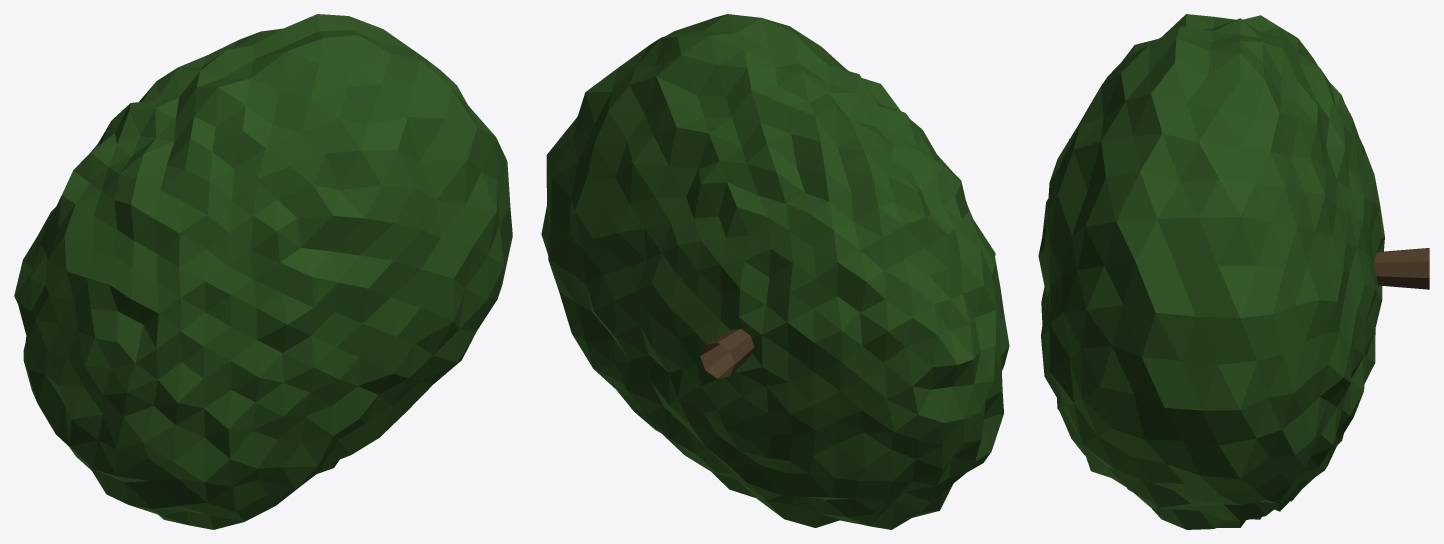
The model's file is citrus_f.obj.
3 renders of one model, left to right at view 1: azimuth 30°, elevation 25°; view 2: azimuth 150°, elevation 25°; view 3: azimuth 270°, elevation 25°, orthographic. The views are drawn at different scales.
Visible parts, largest first — view 1: canopy; view 2: canopy, trunk; view 3: canopy, trunk.
Boxes of the visible parts, x1=… form: canopy: x1=14, y1=14, x2=512, y2=529; canopy: x1=541, y1=14, x2=1009, y2=529; trunk: x1=700, y1=329, x2=754, y2=378; canopy: x1=1038, y1=14, x2=1384, y2=529; trunk: x1=1373, y1=248, x2=1429, y2=289.
Size of the model in its own units: 4.1 by 3.98 by 2.73.
